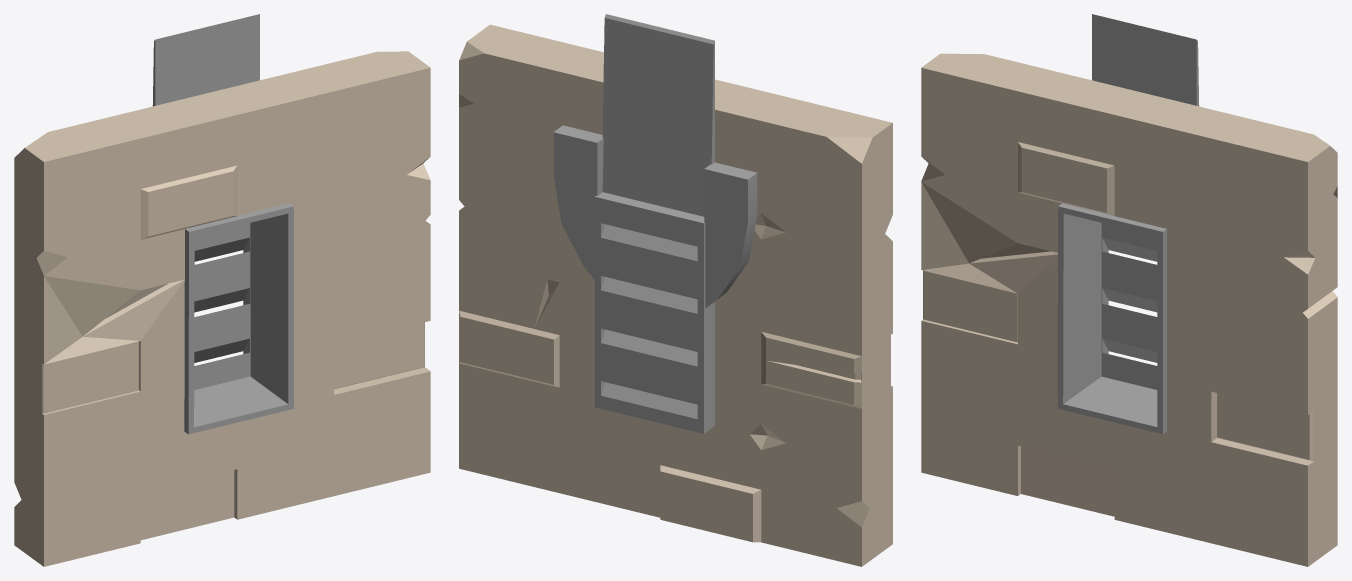
File: Wall_Window_Close_002.fbx
3 views of the same model, side by side, from view 1: azimuth 30°, elevation 25°; view 2: azimuth 150°, elevation 25°; view 3: azimuth 330°, elevation 25° (orthographic). The views are drawn at different scales.
Visible parts, largest first — view 1: Wall_Window_Close_002; view 2: Wall_Window_Close_002; view 3: Wall_Window_Close_002.
Part boxes in pixels (x1,y1,x2,y2): Wall_Window_Close_002: [14, 14, 430, 566]; Wall_Window_Close_002: [459, 14, 892, 566]; Wall_Window_Close_002: [921, 14, 1337, 566].
Size of the model in its own units: 3 by 3.49 by 0.5973.
